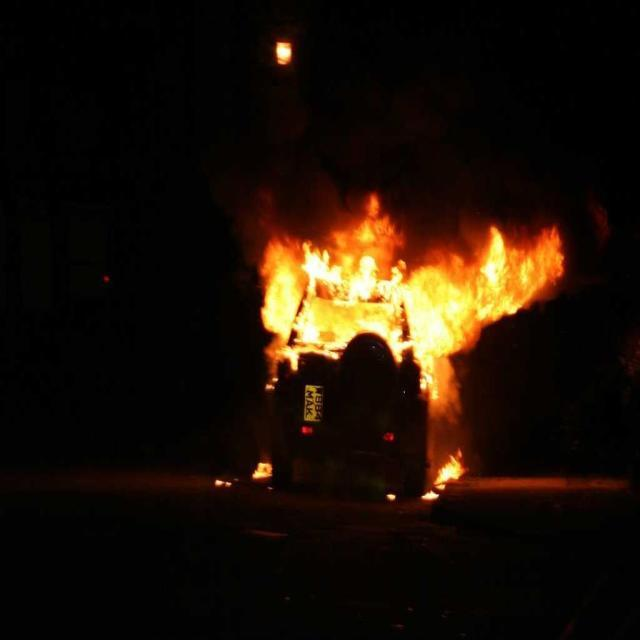Fire: (271, 266, 500, 330), (518, 252, 558, 284)
